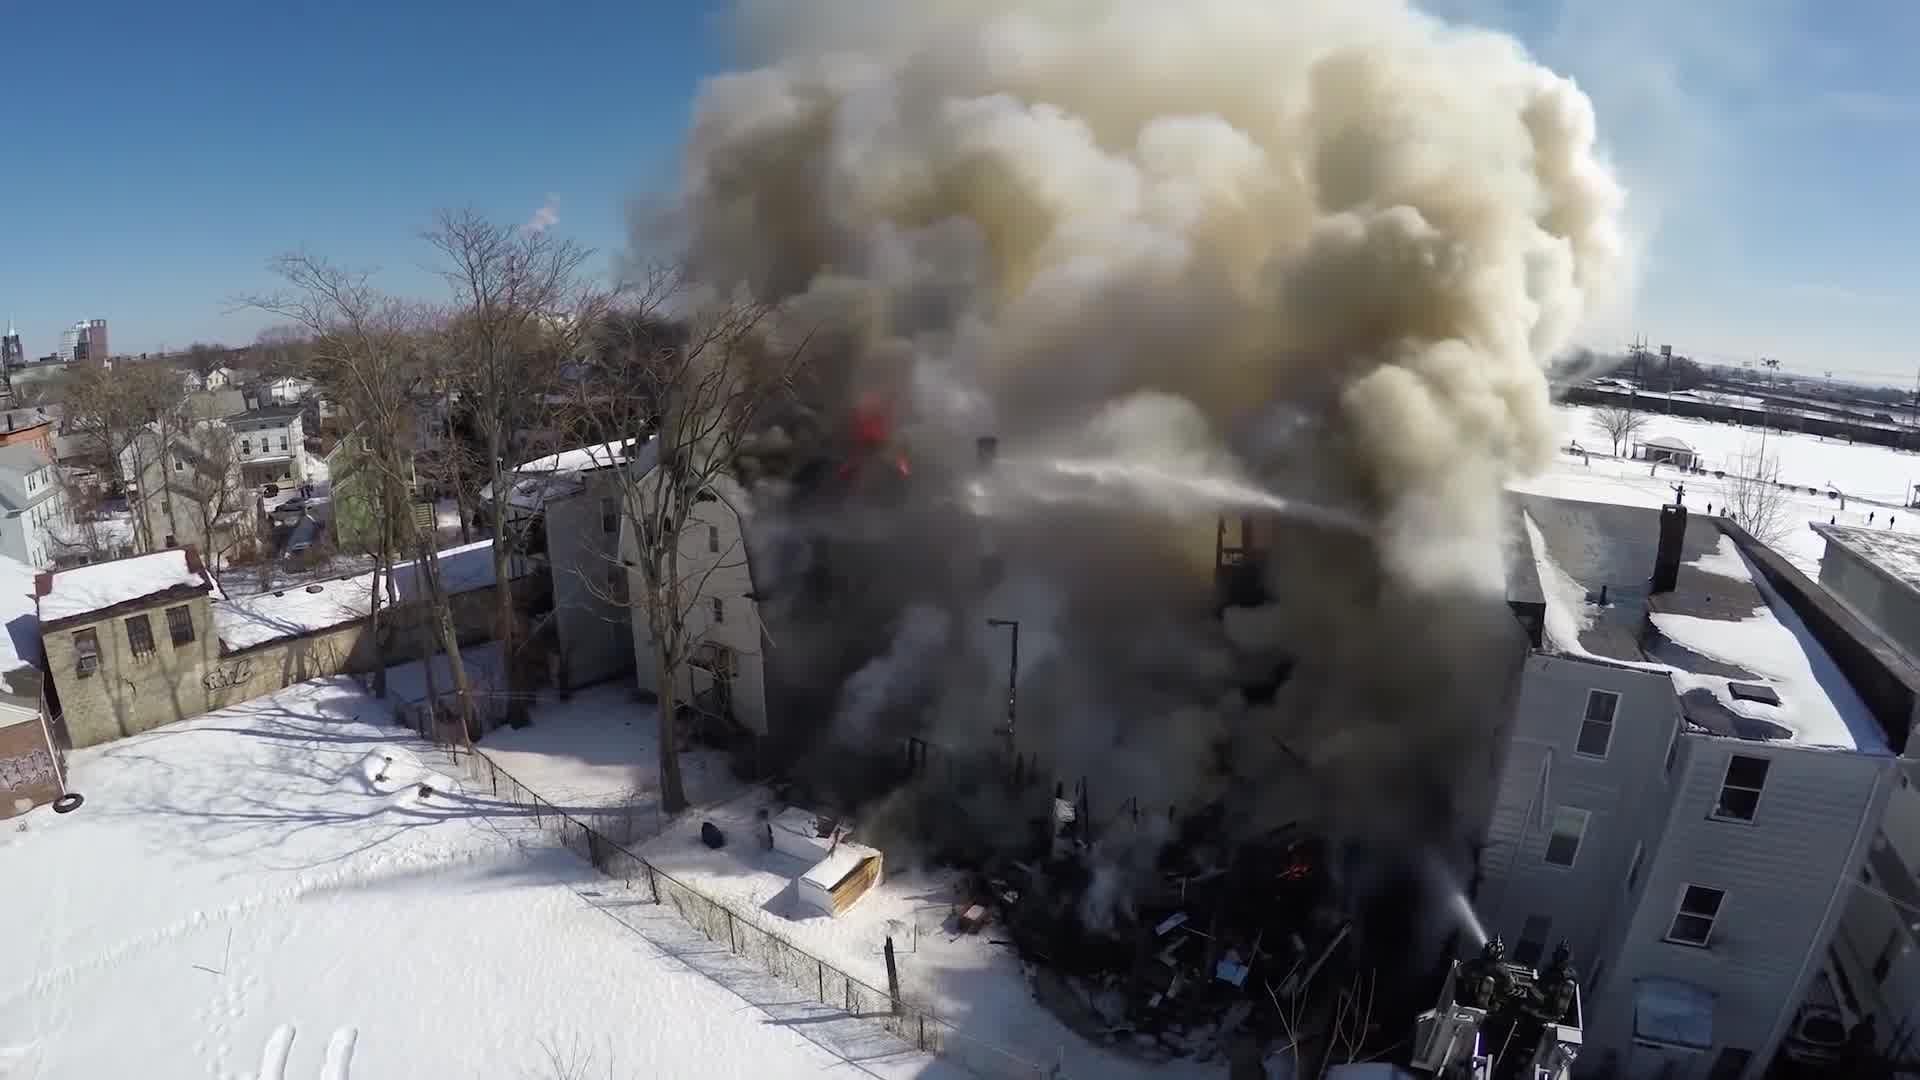smoke: (664, 0, 1652, 864)
